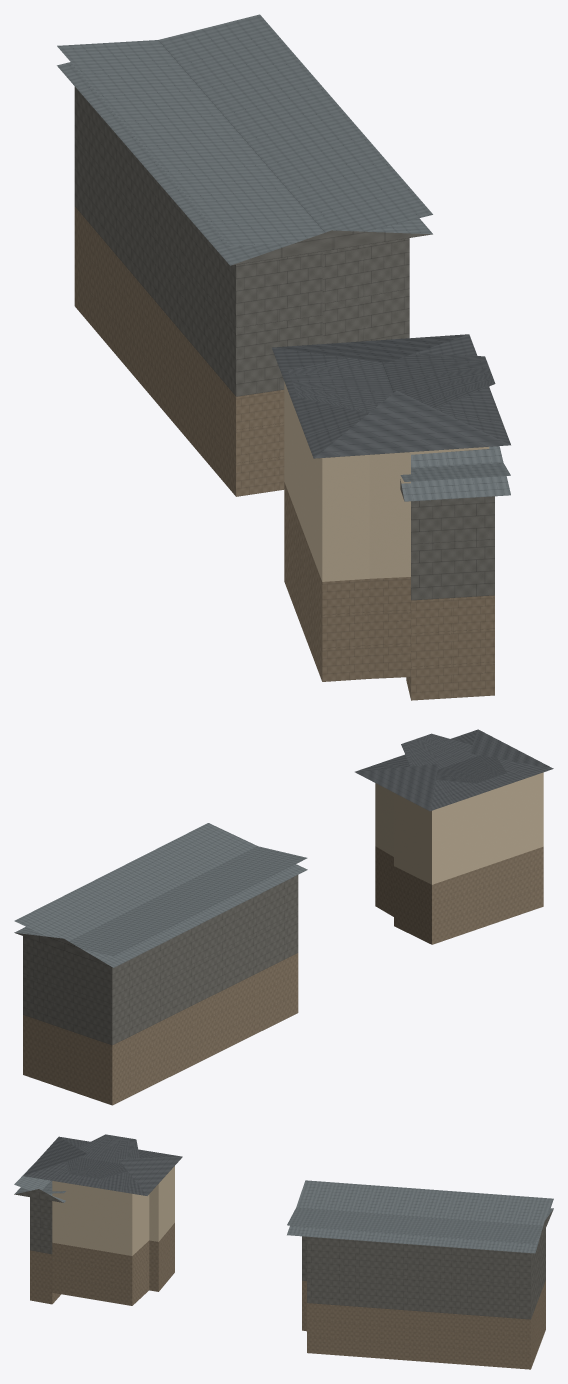
File: bld_c32_-37_448.gltf
The picture shows the model from 3 angles, top to bottom: view 1: azimuth 30°, elevation 25°; view 2: azimuth 150°, elevation 25°; view 3: azimuth 270°, elevation 25°; orthographic projection. The views are drawn at different scales.
Visible parts, largest first — view 1: bld_c32_-37_448; view 2: bld_c32_-37_448; view 3: bld_c32_-37_448.
Boxes of the visible parts, x1,y1,x2,y2 form: bld_c32_-37_448: [57, 14, 510, 700]; bld_c32_-37_448: [14, 729, 553, 1105]; bld_c32_-37_448: [14, 1134, 553, 1369].
Size of the model in its own units: 22.55 by 14.5 by 49.88.
6 materials, 6 textured.
